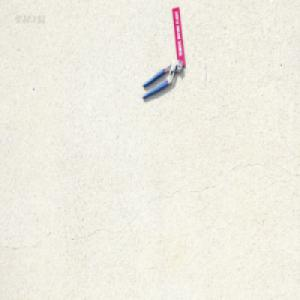Label: (171, 6, 185, 68)
Pliers: (141, 57, 183, 100)
